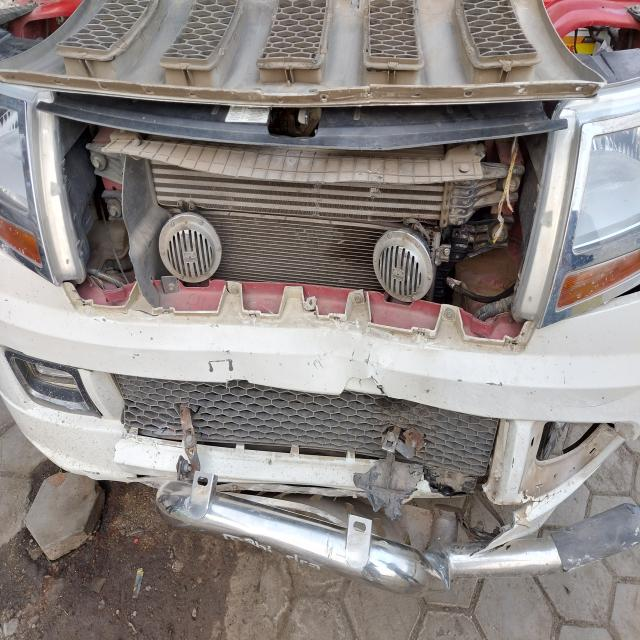damage: (345, 514, 573, 590), (331, 394, 504, 473), (324, 451, 530, 494), (152, 402, 234, 509), (530, 399, 620, 483)
